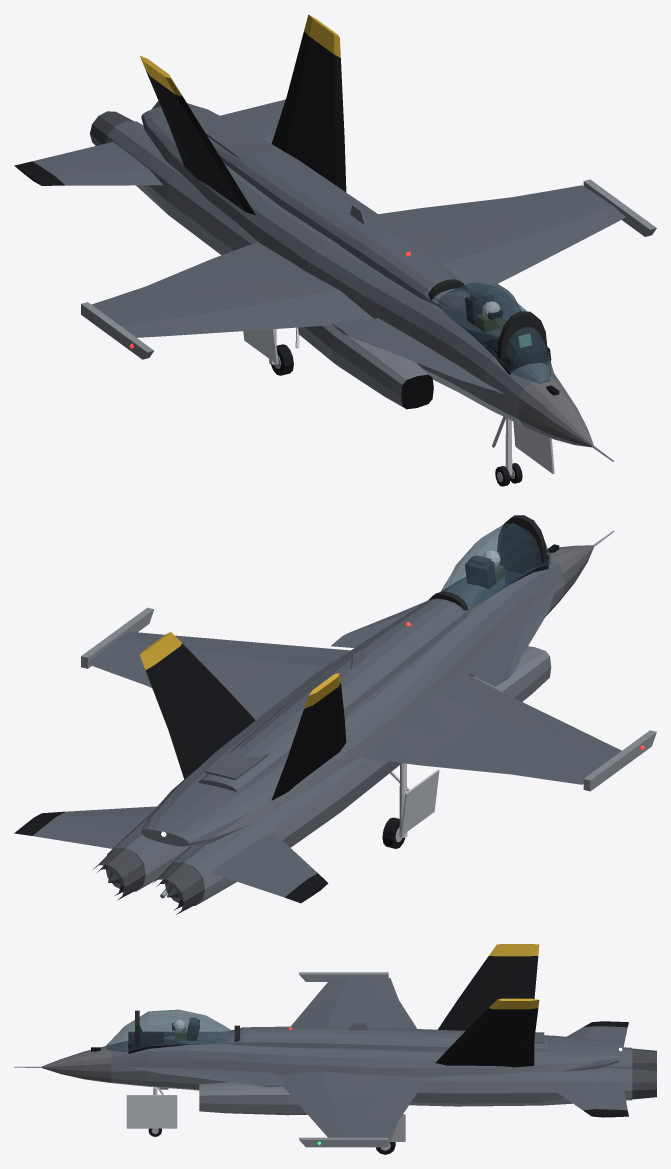
3 views of the same model, one above another, from view 1: azimuth 30°, elevation 25°; view 2: azimuth 150°, elevation 25°; view 3: azimuth 270°, elevation 25° (orthographic). The views are drawn at different scales.
Parts seen in each view (by area): view 1: part-0000, part-0009, part-0032, part-0001, part-0013, part-0042, part-0018; view 2: part-0000, part-0009, part-0042, part-0018, part-0014, part-0013, part-0001, part-0004; view 3: part-0000, part-0009, part-0032, part-0001, part-0014, part-0018.
Boxes of the visible parts, left/top/right/bottom form: part-0000: left=14, top=14, right=656, bottom=447; part-0009: left=438, top=282, right=550, bottom=383; part-0032: left=513, top=421, right=554, bottom=473; part-0001: left=462, top=320, right=548, bottom=374; part-0013: left=205, top=125, right=270, bottom=158; part-0042: left=243, top=329, right=278, bottom=364; part-0018: left=90, top=111, right=133, bottom=145; part-0000: left=14, top=515, right=656, bottom=905; part-0009: left=440, top=523, right=550, bottom=607; part-0042: left=400, top=769, right=439, bottom=835; part-0018: left=152, top=863, right=204, bottom=914; part-0014: left=93, top=848, right=145, bottom=900; part-0013: left=205, top=745, right=270, bottom=780; part-0001: left=464, top=551, right=548, bottom=589; part-0004: left=465, top=556, right=496, bottom=588; part-0000: left=42, top=944, right=632, bottom=1147; part-0009: left=106, top=1009, right=232, bottom=1052; part-0032: left=126, top=1095, right=177, bottom=1128; part-0001: left=128, top=1031, right=200, bottom=1053; part-0014: left=632, top=1068, right=656, bottom=1099; part-0018: left=632, top=1048, right=656, bottom=1070.
Bounding box in the file's own units: 11.82 × 5.32 × 19.
